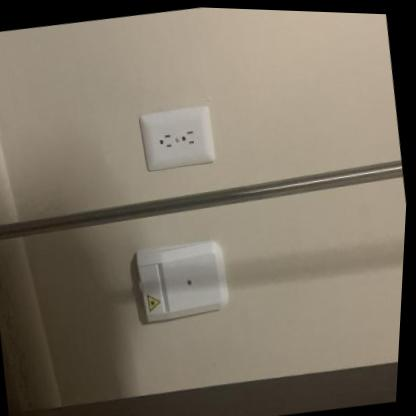OUTLET: (137, 101, 218, 172)
